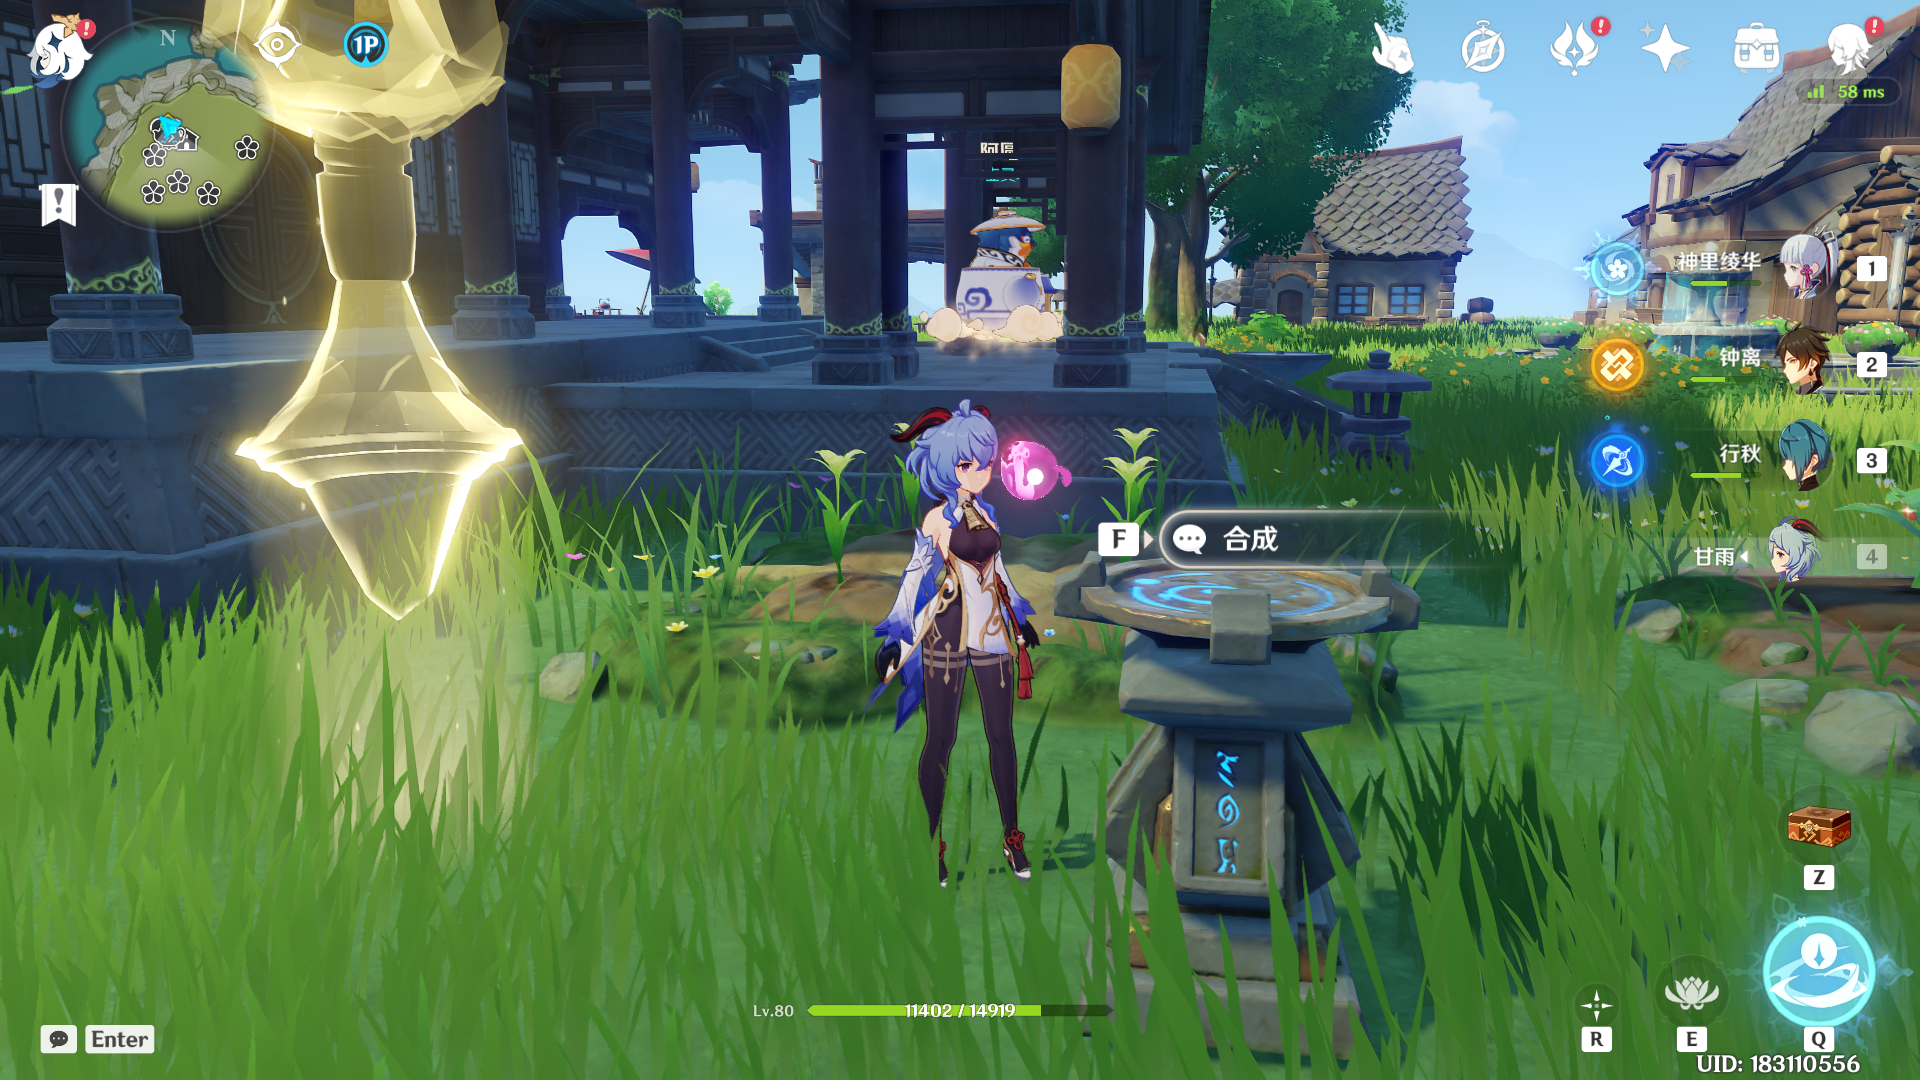character: (876, 364, 1077, 949)
